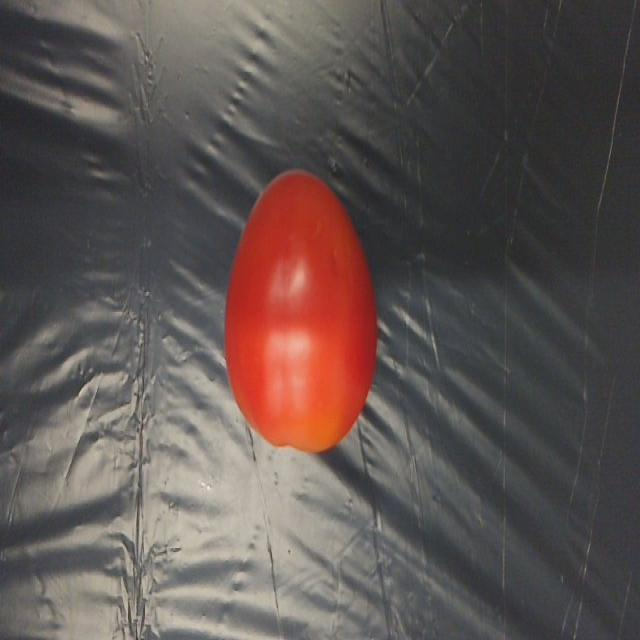kirmizi: (208, 160, 388, 467)
